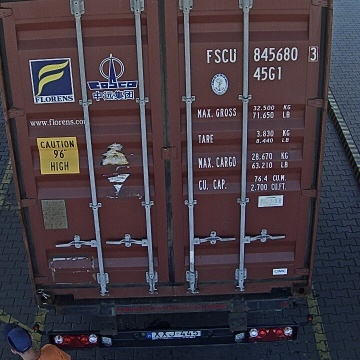serial_id: (207, 46, 317, 63)
